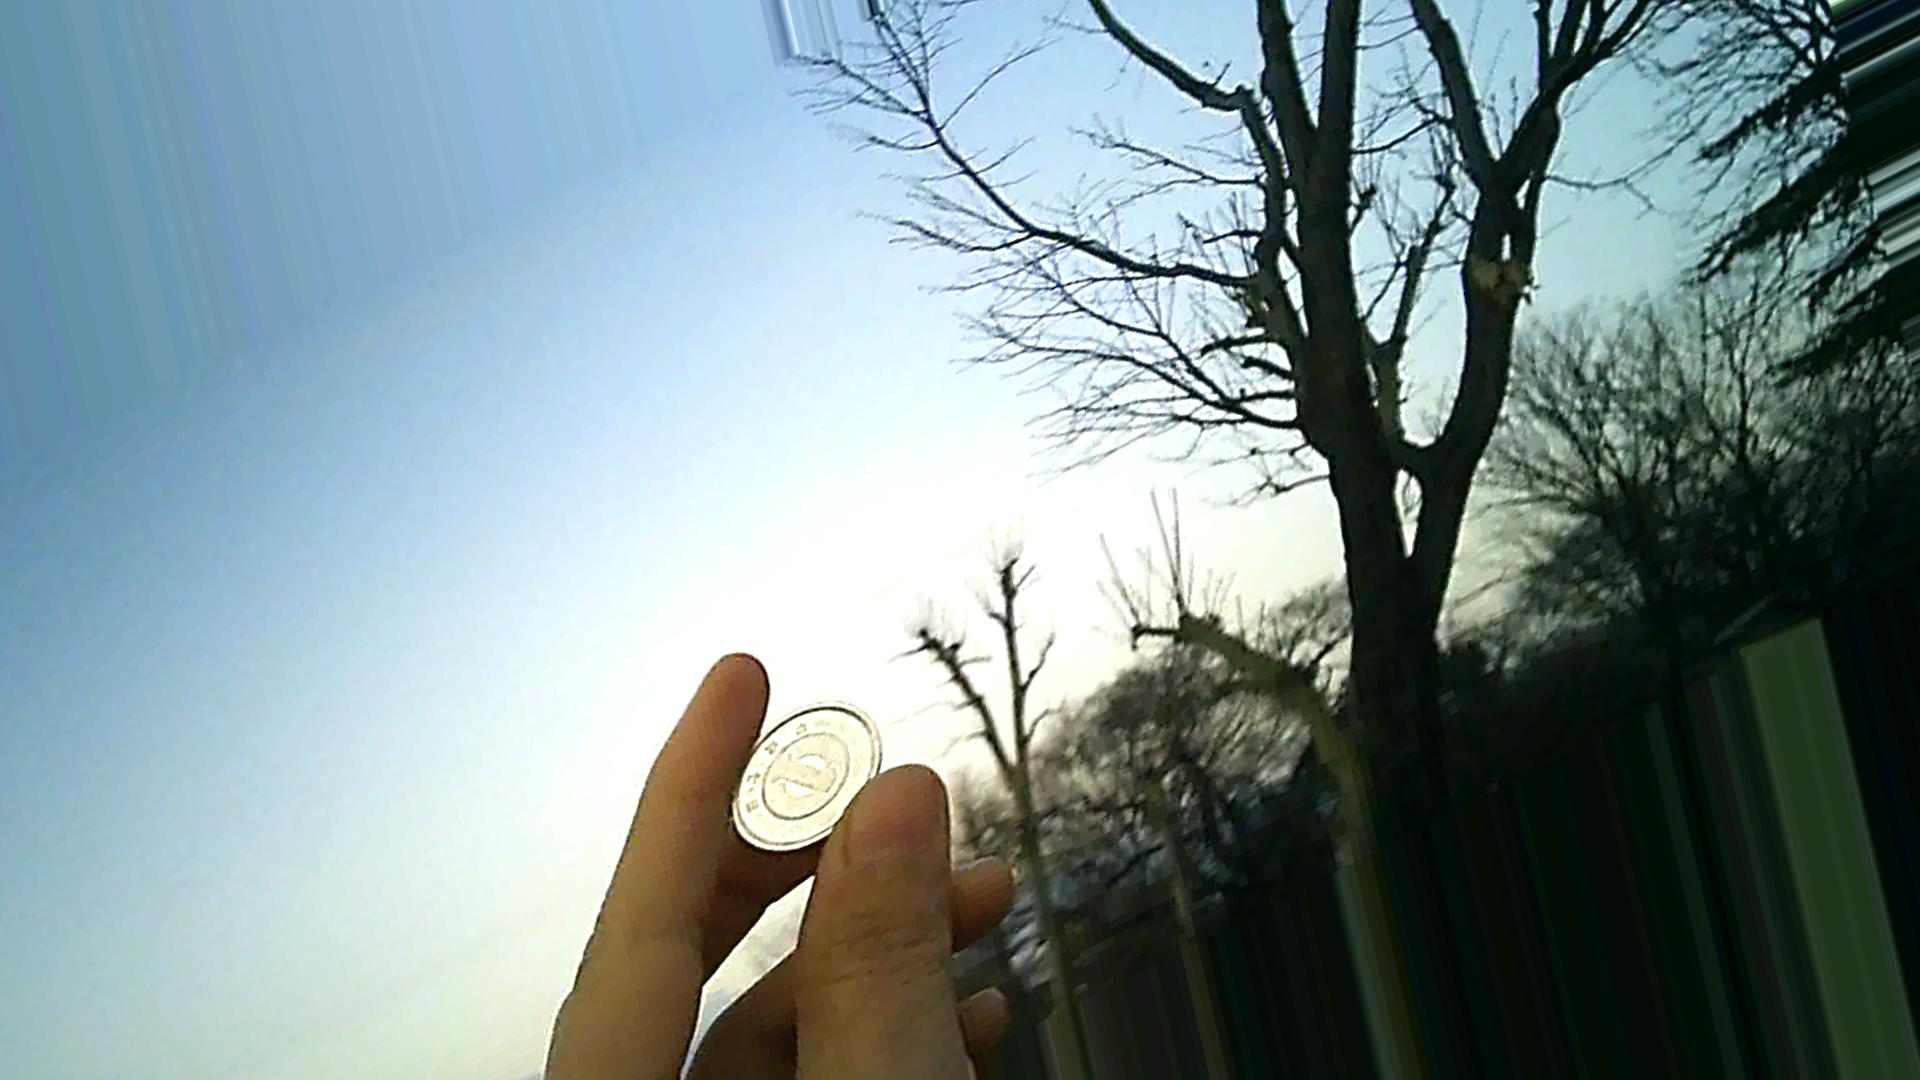1 Yen: (723, 698, 895, 856)
